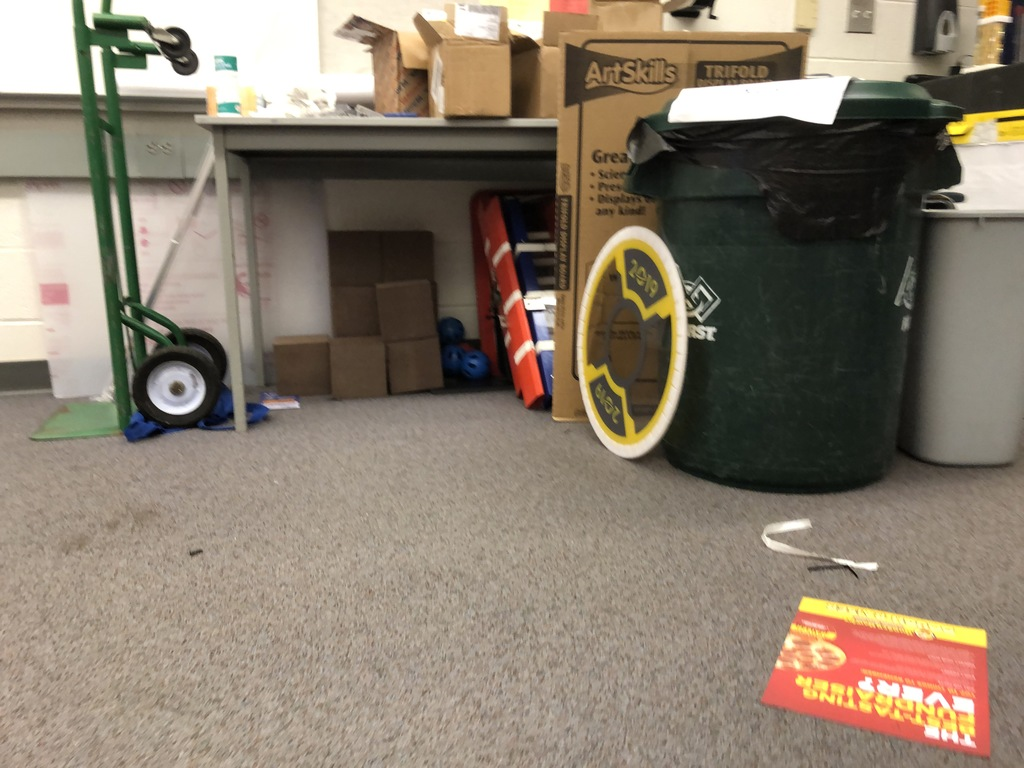hatch_panel: (571, 207, 685, 468)
